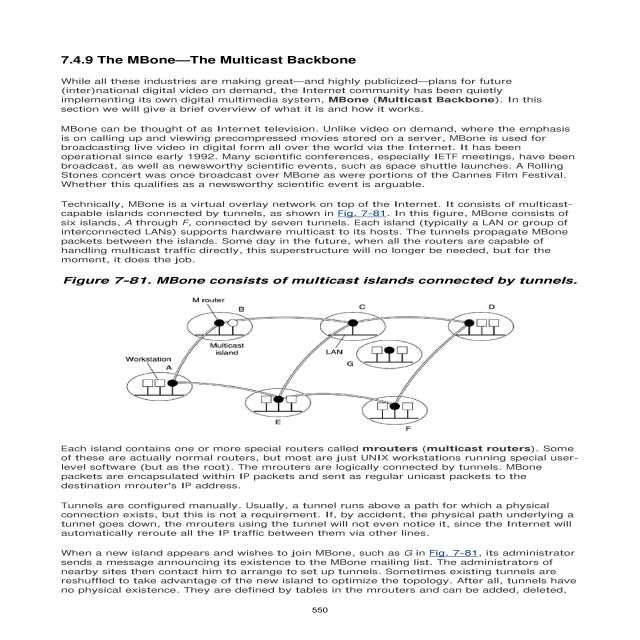diagram: (36, 265, 553, 425)
